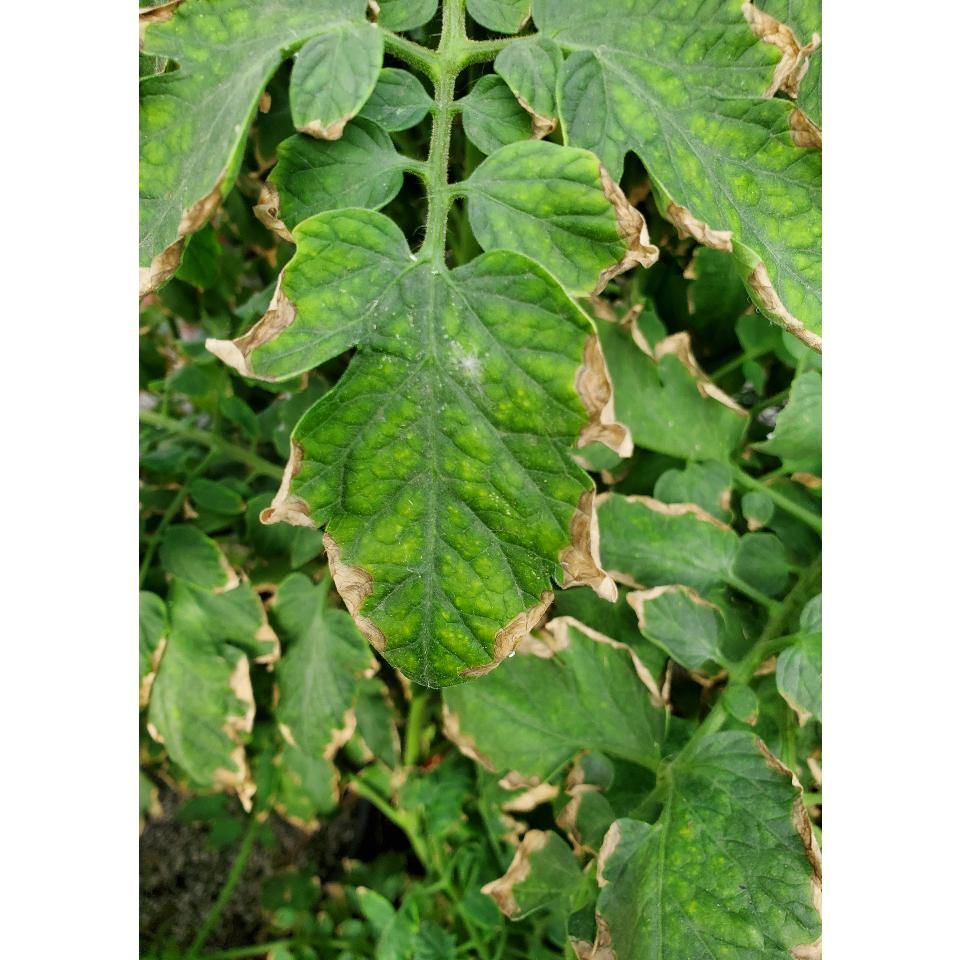tomato_bacterial_blight: (202, 210, 644, 698), (476, 142, 660, 300)
